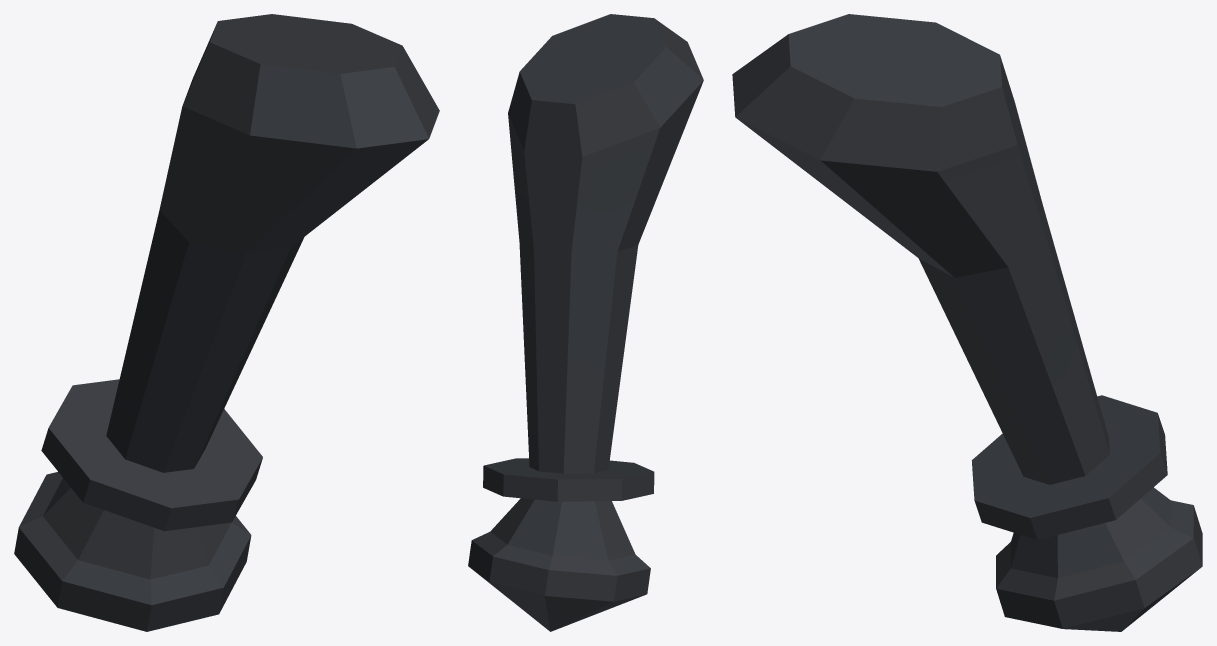
The model's file is SM_Veh_Telehandler_01_Joystick.obj.
The picture shows the model from 3 angles, left to right: view 1: azimuth 30°, elevation 25°; view 2: azimuth 150°, elevation 25°; view 3: azimuth 270°, elevation 25°; orthographic projection. The views are drawn at different scales.
Visible parts, largest first — view 1: SM_Veh_Telehandler_01_Joystick_0; view 2: SM_Veh_Telehandler_01_Joystick_0; view 3: SM_Veh_Telehandler_01_Joystick_0.
Part boxes in pixels (x1=…): SM_Veh_Telehandler_01_Joystick_0: x1=14, y1=14, x2=439, y2=631; SM_Veh_Telehandler_01_Joystick_0: x1=468, y1=14, x2=703, y2=631; SM_Veh_Telehandler_01_Joystick_0: x1=732, y1=14, x2=1202, y2=631.
Bounding box in the file's own units: 0.1062 × 0.263 × 0.1815.
Materials: 1 (1 with a texture image).
